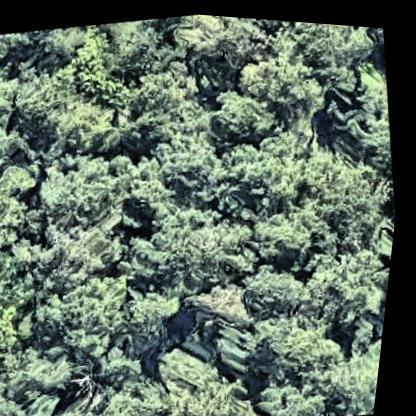tree-top: (242, 289, 392, 416), (49, 260, 193, 371), (289, 120, 400, 254), (144, 190, 274, 302), (33, 131, 153, 246), (137, 113, 237, 204), (0, 148, 64, 269), (327, 51, 401, 152), (168, 10, 267, 76), (205, 78, 288, 152), (283, 17, 374, 81), (246, 193, 322, 267)
